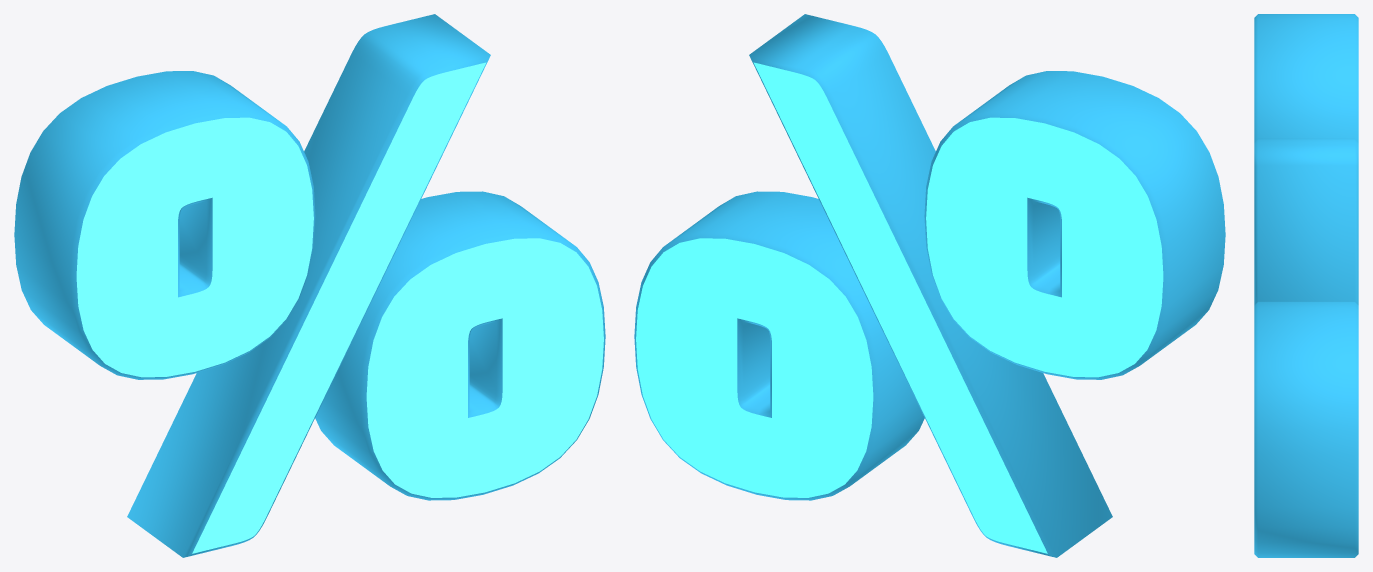
The picture shows the model from 3 angles, left to right: view 1: azimuth 30°, elevation 25°; view 2: azimuth 150°, elevation 25°; view 3: azimuth 270°, elevation 25°; orthographic projection. The views are drawn at different scales.
Visible parts, largest first — view 1: glyph; view 2: glyph; view 3: glyph.
Boxes of the visible parts, bbox=[...] form: glyph: bbox=[14, 14, 605, 557]; glyph: bbox=[634, 14, 1225, 557]; glyph: bbox=[1254, 14, 1358, 557].
Size of the model in its own units: 0.0827 by 0.0662 by 0.0162.
